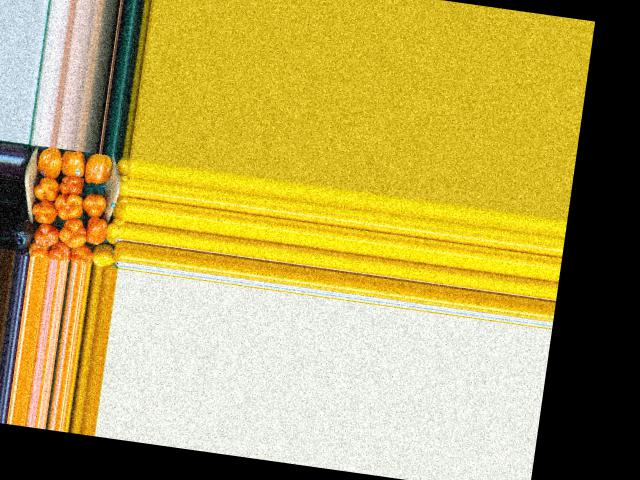bell_pepper: (105, 213, 123, 246)
